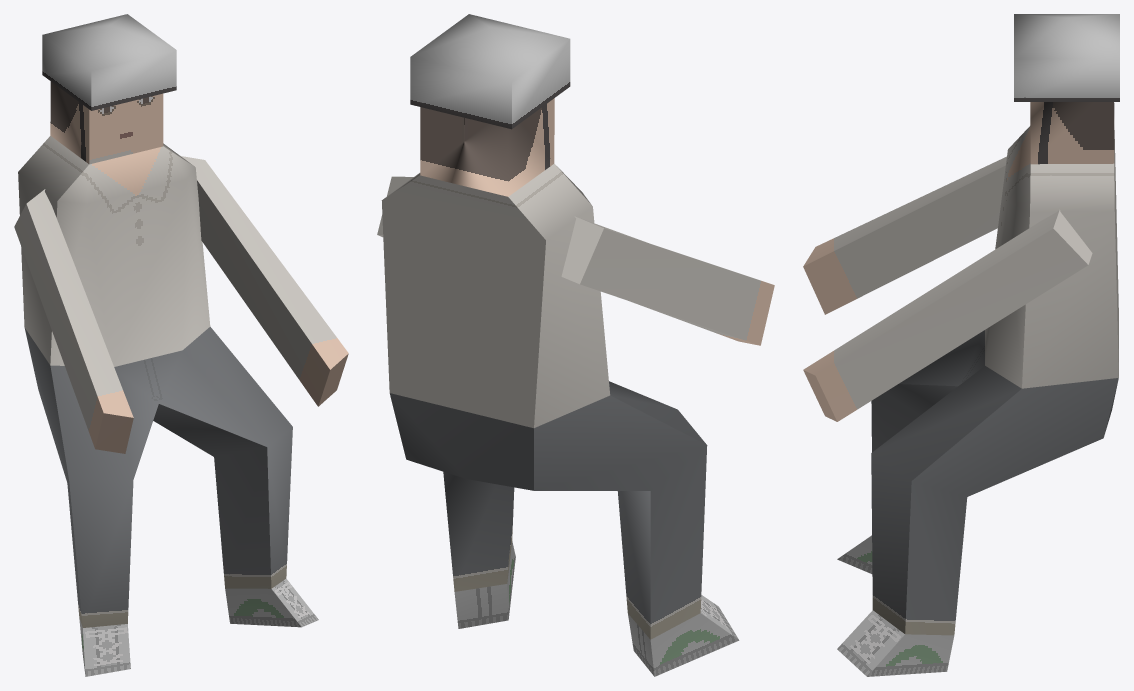
Rendered from 0257_Delivery_Guy.glb.
3 renders of one model, left to right at view 1: azimuth 30°, elevation 25°; view 2: azimuth 150°, elevation 25°; view 3: azimuth 270°, elevation 25°, orthographic. The views are drawn at different scales.
Parts seen in each view (by area): view 1: part_0; view 2: part_0; view 3: part_0.
Boxes of the visible parts, x1,y1,x2,y2 form: part_0: (14, 14, 348, 676); part_0: (377, 14, 774, 676); part_0: (803, 14, 1119, 676).
Size of the model in its own units: 0.6303 by 1.39 by 0.6554.
1 material, 1 textured.
